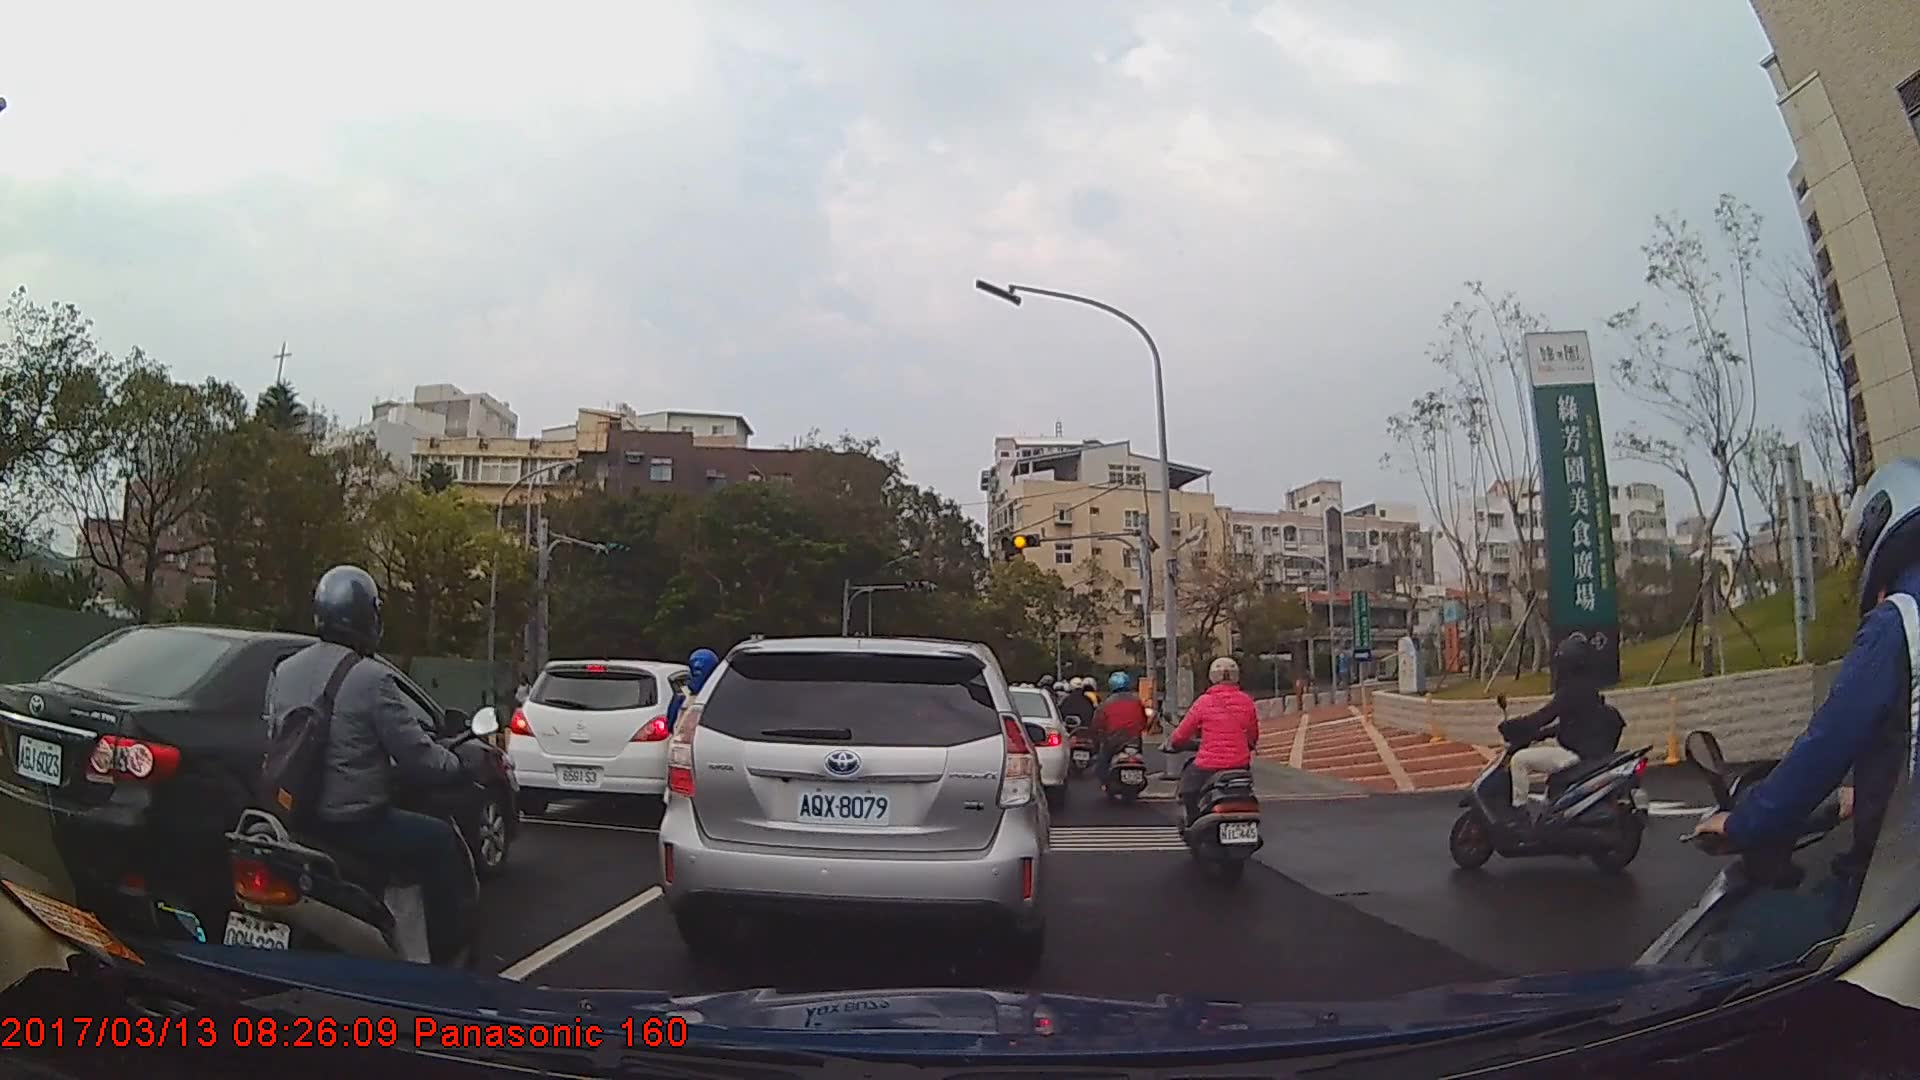pedestrian: (514, 674, 534, 730)
rider: (1621, 455, 1920, 1080), (219, 560, 490, 1023), (1452, 646, 1652, 872), (1168, 653, 1265, 880), (1093, 669, 1156, 817), (1064, 674, 1104, 779)
vehicle: (0, 622, 517, 942), (656, 635, 1052, 957), (505, 658, 726, 818), (962, 685, 1071, 803)
